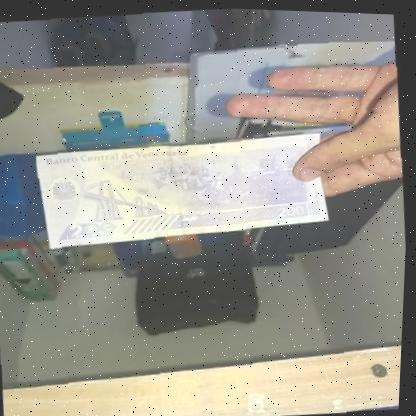two_hundred-back-vef: (31, 120, 337, 259)
